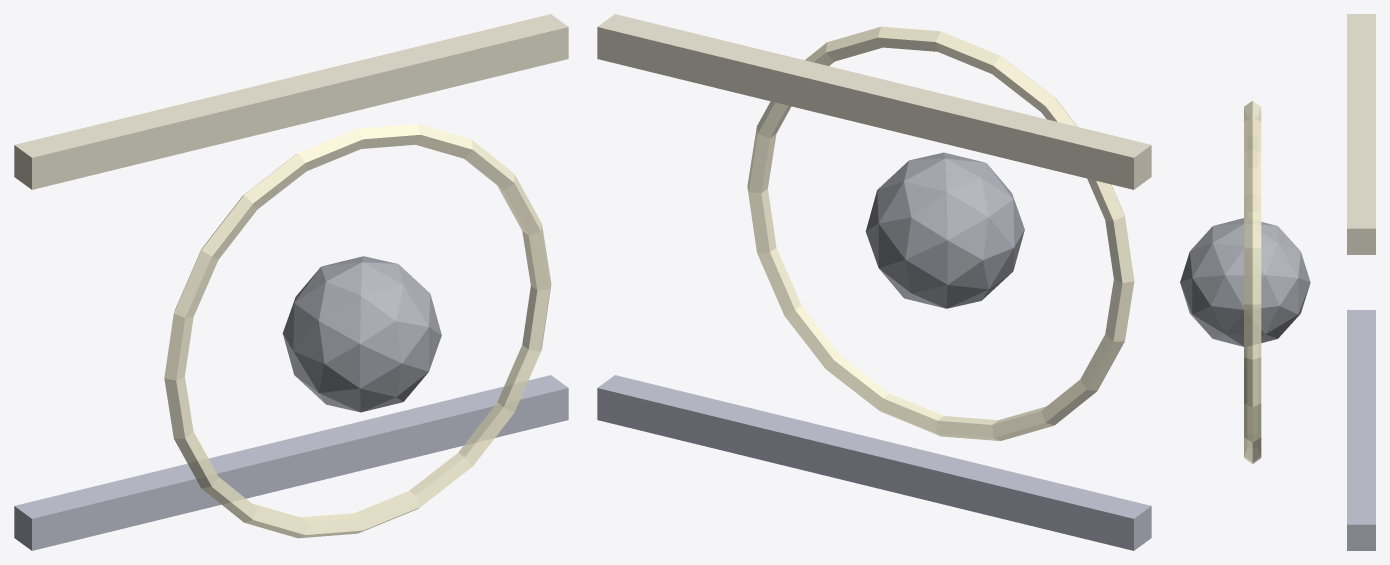
The model's file is 02_material_polish_overlay_2.glb.
3 views of the same model, side by side, from view 1: azimuth 30°, elevation 25°; view 2: azimuth 150°, elevation 25°; view 3: azimuth 270°, elevation 25° (orthographic). The views are drawn at different scales.
Parts seen in each view (by area): view 1: polished_trim_bar_b, polished_trim_bar_a, material_preview_ring, reflective_sample_core; view 2: polished_trim_bar_a, polished_trim_bar_b, material_preview_ring, reflective_sample_core; view 3: reflective_sample_core, polished_trim_bar_a, polished_trim_bar_b, material_preview_ring.
Part boxes in pixels (x1,y1,x2,y2): polished_trim_bar_b: (14, 14, 568, 189); polished_trim_bar_a: (14, 375, 568, 550); material_preview_ring: (164, 124, 551, 538); reflective_sample_core: (282, 256, 441, 412); polished_trim_bar_a: (597, 375, 1151, 550); polished_trim_bar_b: (597, 14, 1151, 189); material_preview_ring: (747, 26, 1134, 440); reflective_sample_core: (865, 152, 1024, 308); reflective_sample_core: (1180, 218, 1310, 346); polished_trim_bar_a: (1347, 310, 1375, 550); polished_trim_bar_b: (1347, 14, 1375, 254); material_preview_ring: (1244, 100, 1261, 464).
Bounding box in the file's own units: 1.4 × 1.01 × 0.54.
